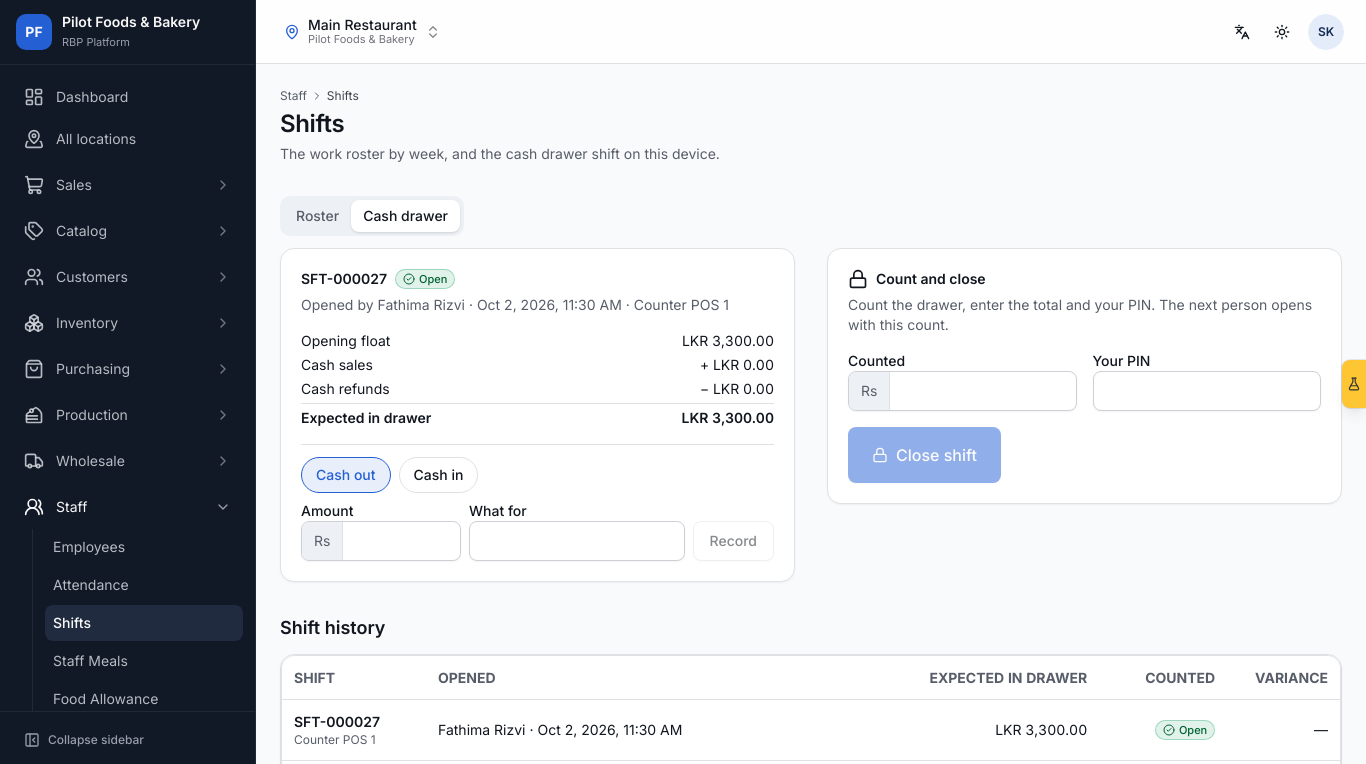
Scenario: HR-004 cash drawer › counts and closes the open shift on this device
This screenshot has width=1366, height=764.
Type "3300" into the field labelled "Counted" at (983, 391), box [890,381,1076,401]
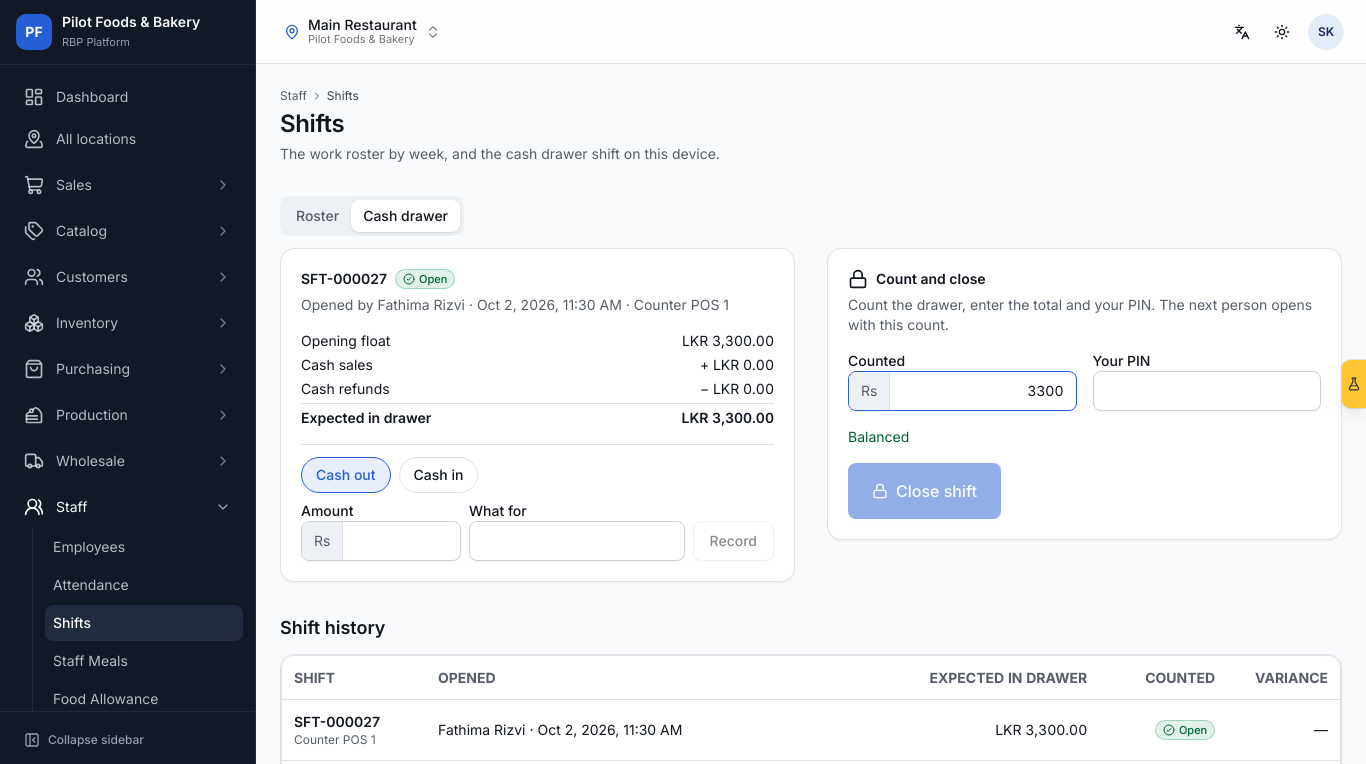
Type "3333" into the password field labelled "Your PIN" at (1207, 391), box [1092,371,1321,411]
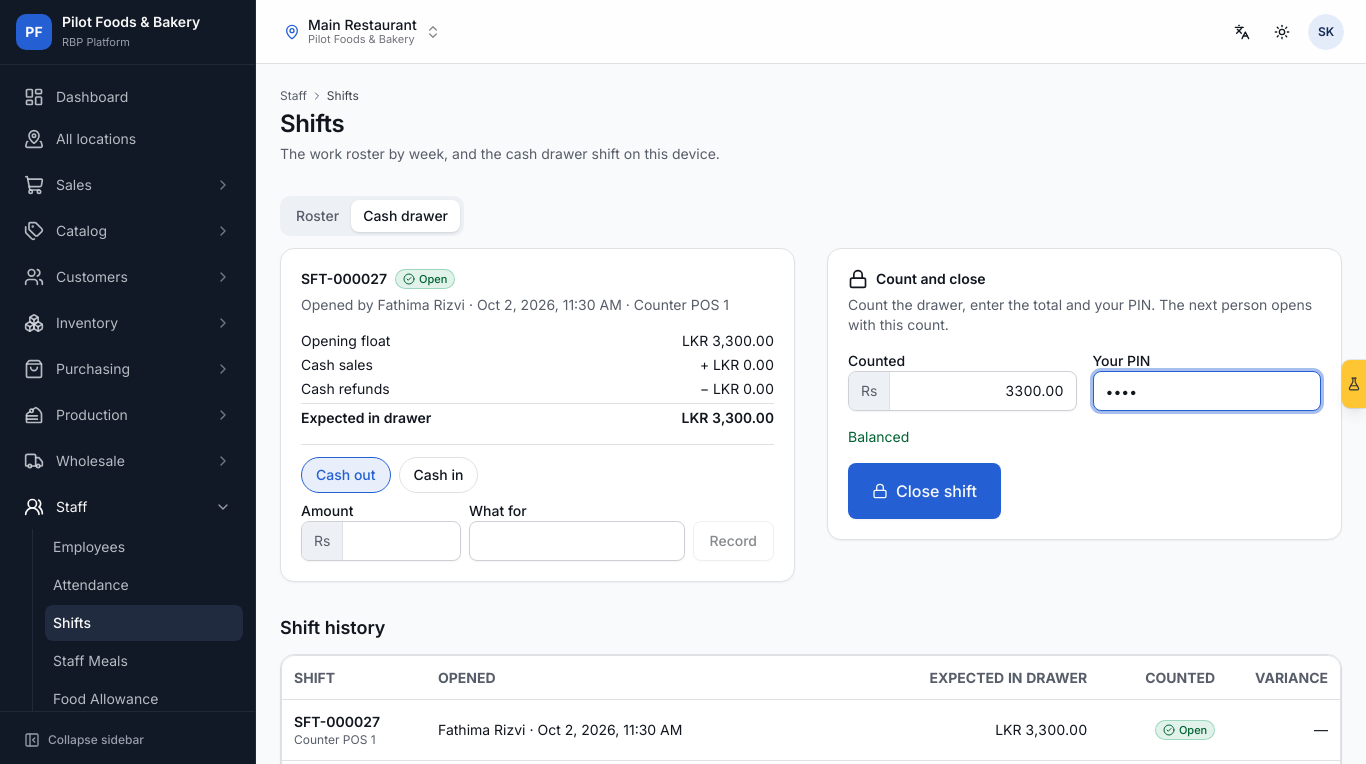
Click the button "Close shift" at (924, 491), box [848,463,1001,519]
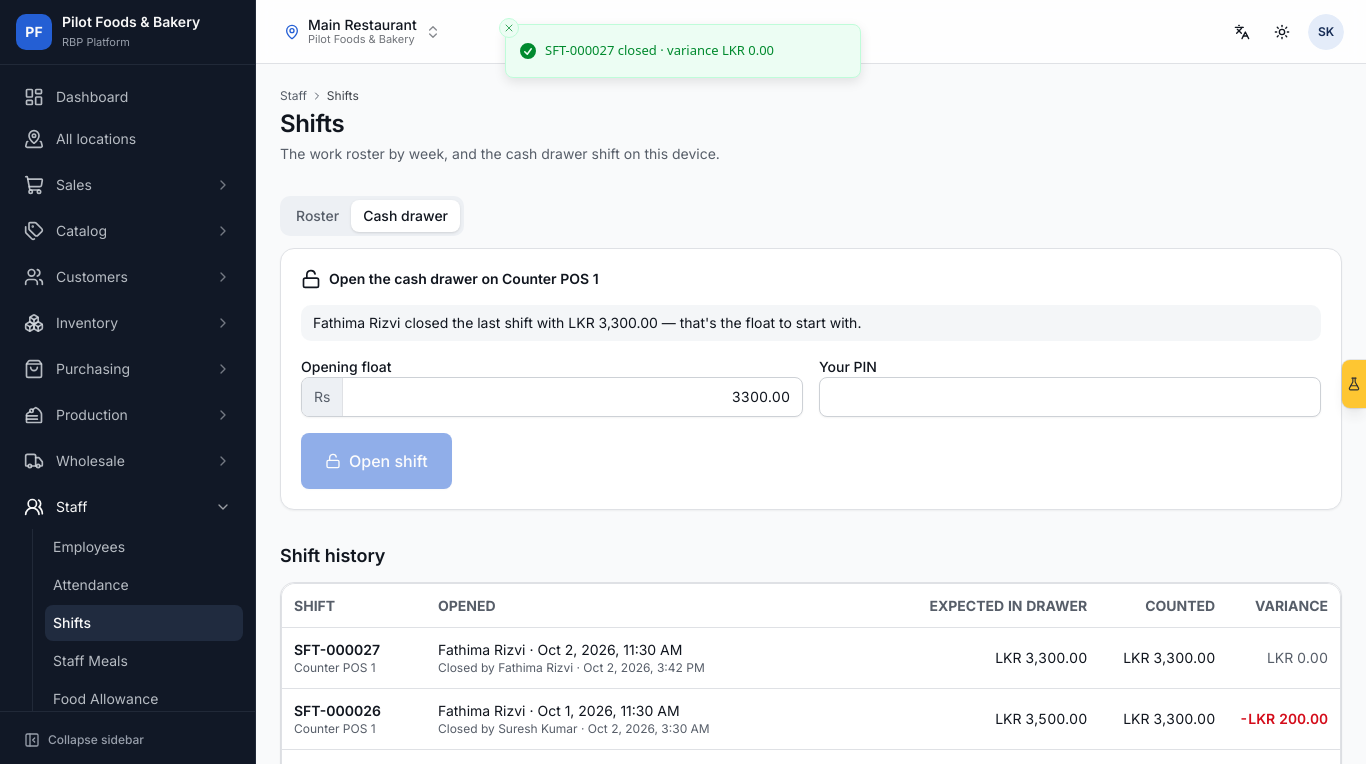
Expected: the text "that's the float to start with" is shown, [313,314,861,331]
